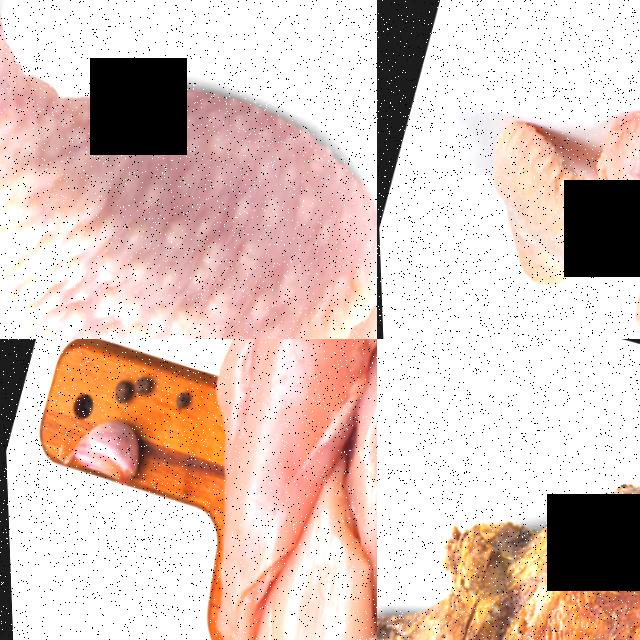chicken breast: (147, 339, 377, 628), (206, 546, 377, 640)
chicken thigh: (0, 0, 377, 339), (377, 387, 640, 640)
chicken wing: (453, 68, 640, 321)
